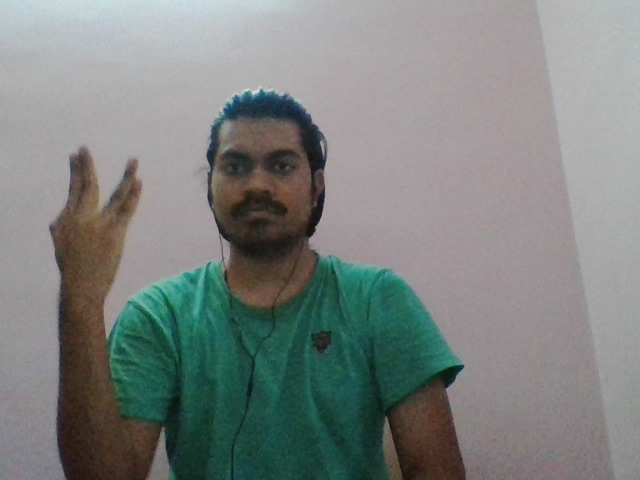LiveLong: (47, 145, 144, 293)
